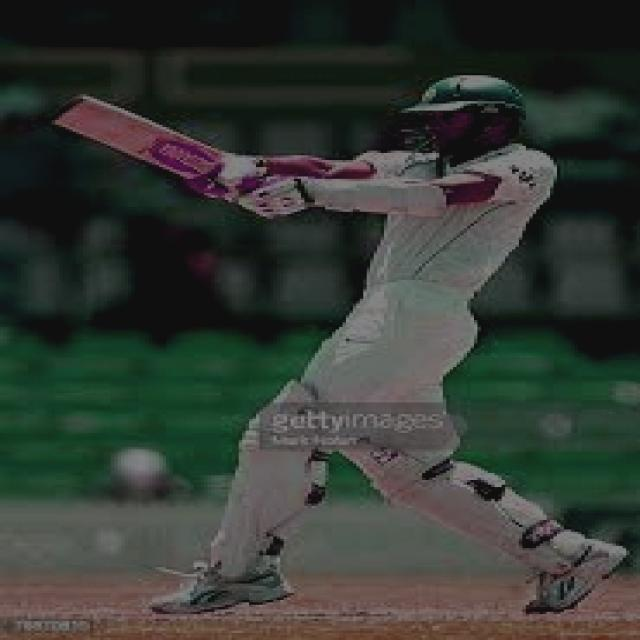toe: (42, 90, 95, 132)
